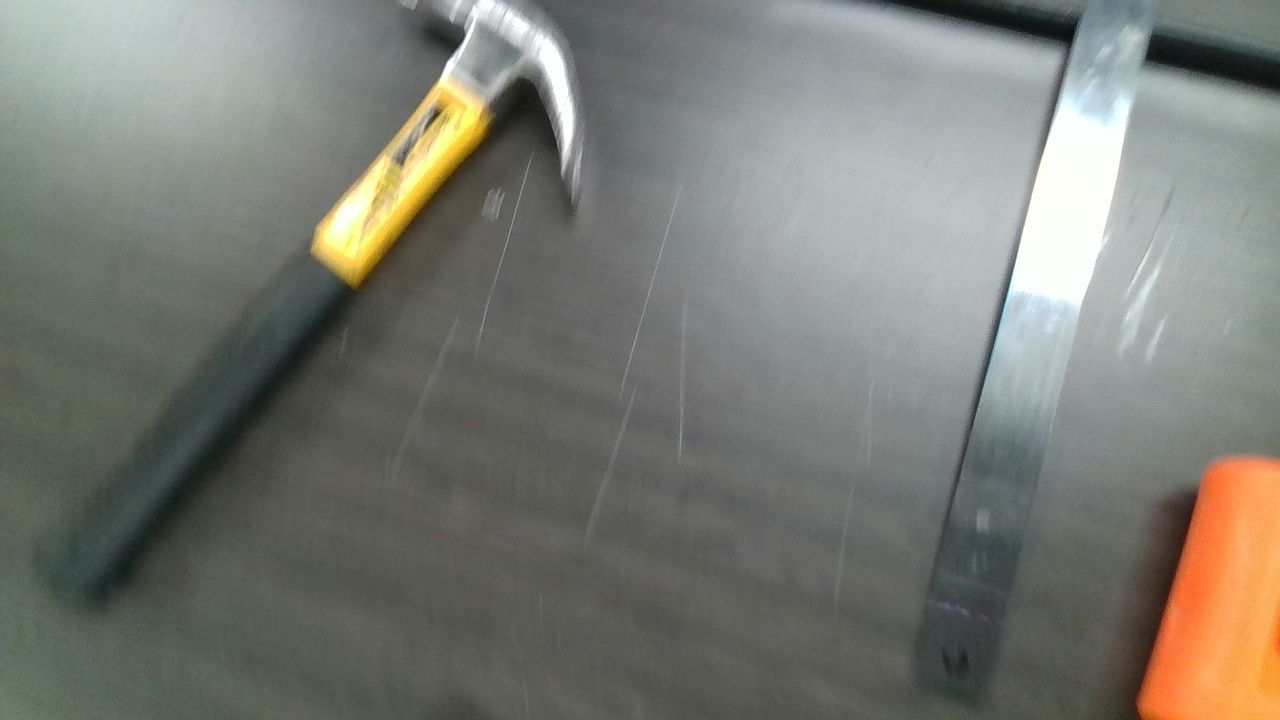Orange Hammer: (1128, 452, 1280, 720)
